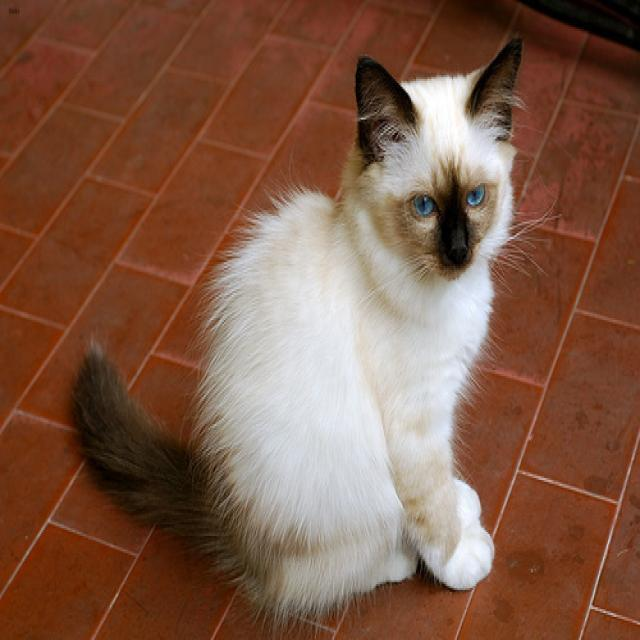Birman: (348, 18, 532, 288)
